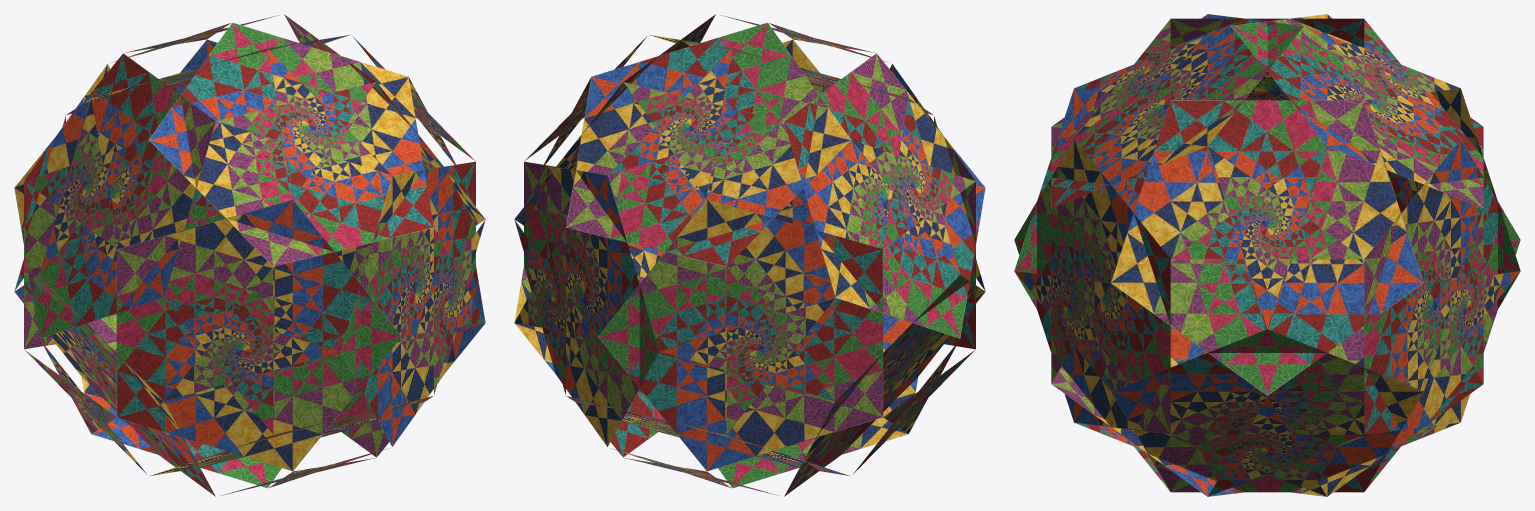
File: Icosidodecadodecahedron6.obj
3 views of the same model, side by side, from view 1: azimuth 30°, elevation 25°; view 2: azimuth 150°, elevation 25°; view 3: azimuth 270°, elevation 25° (orthographic). The views are drawn at different scales.
Bounding box in the file's own units: 2.62 × 2.62 × 2.62.
1 material, 1 textured.
